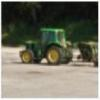tractors: (20, 27, 76, 66)
